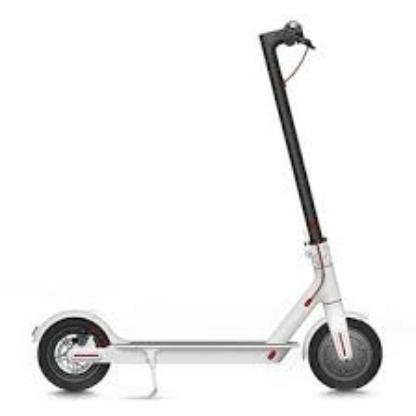bike: (2, 20, 384, 400)
car: (1, 24, 385, 400)
